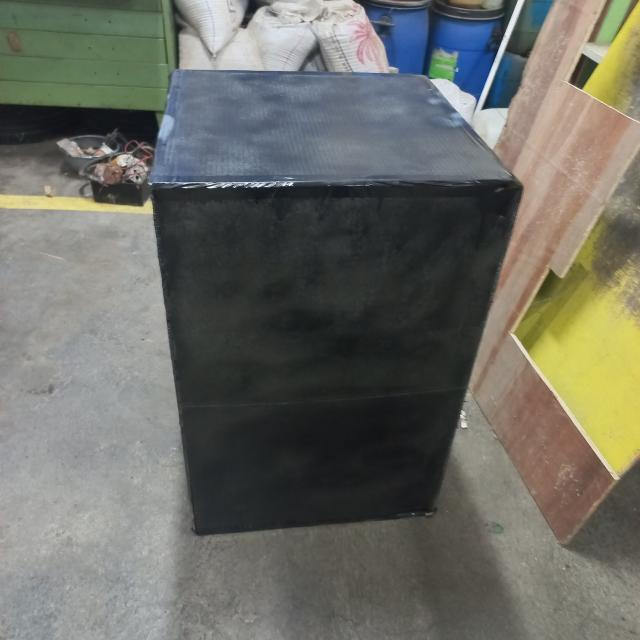obstacle: (146, 63, 526, 540)
